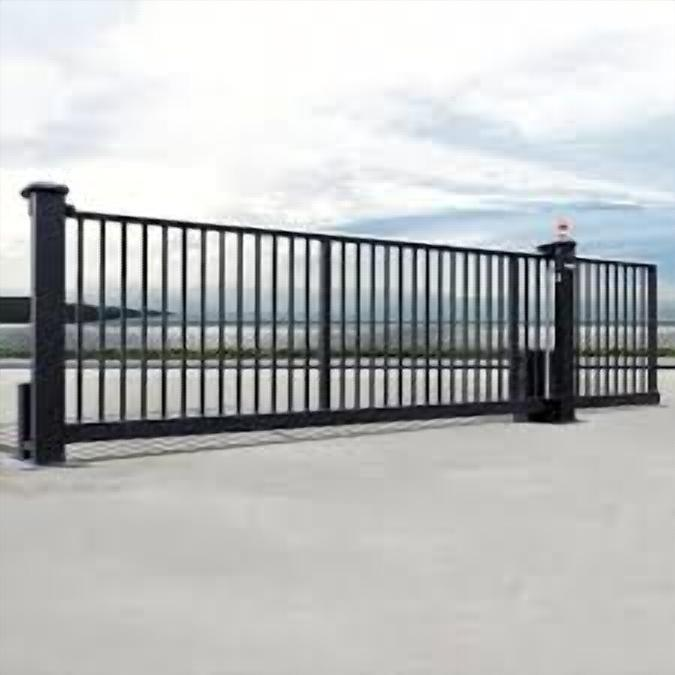Gate: (19, 180, 659, 470)
